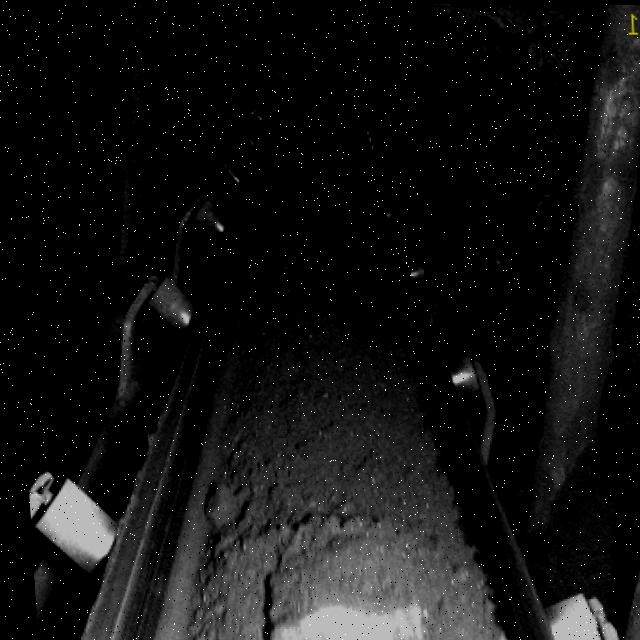large_sized_coal: (256, 553, 421, 640)
